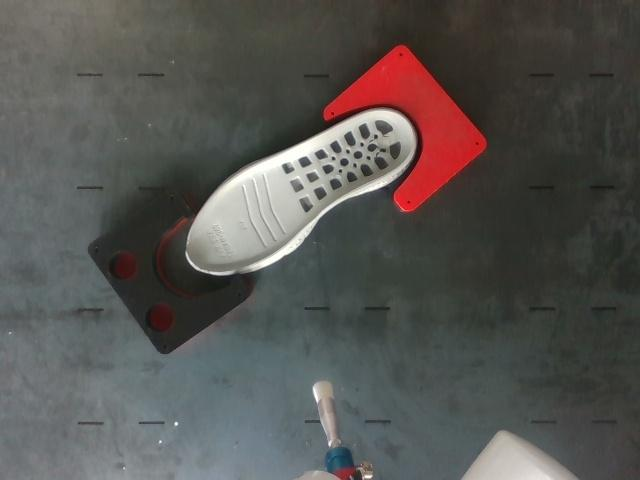shoes: (186, 110, 414, 272)
